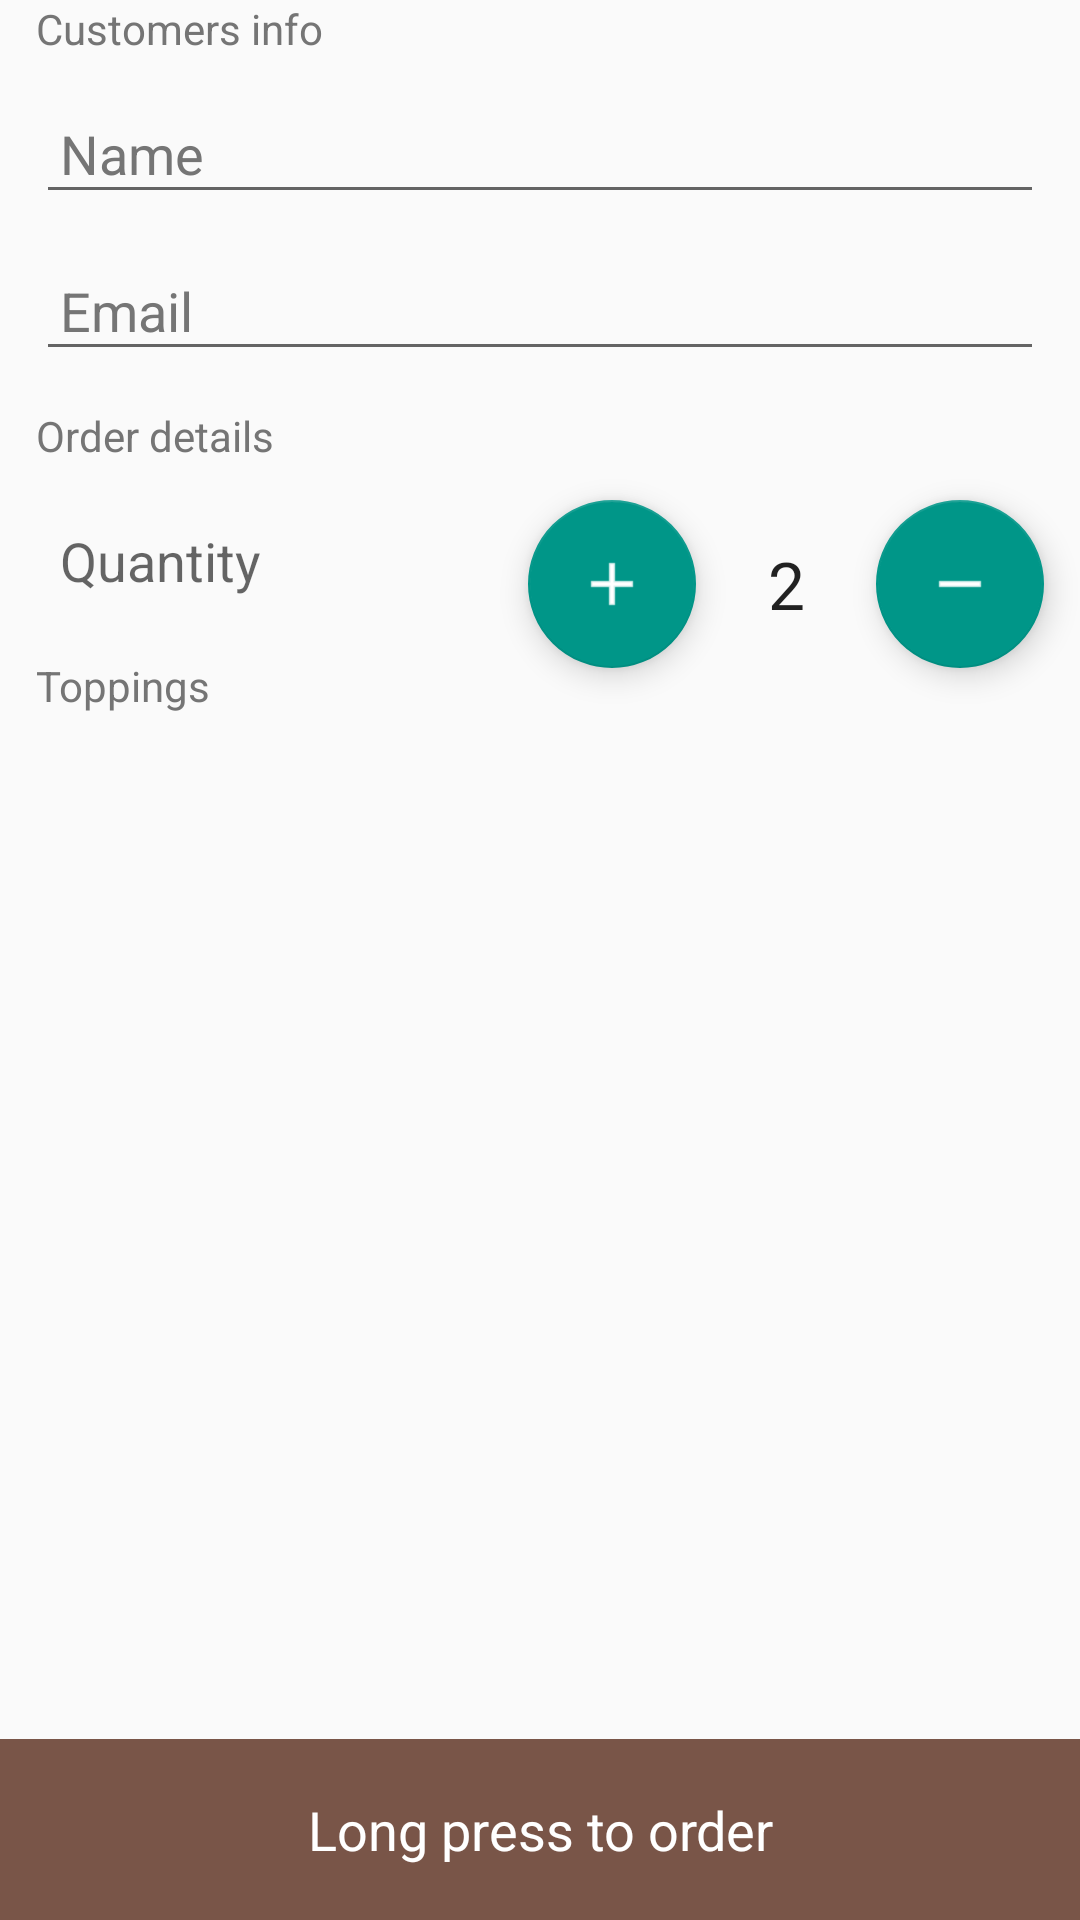

Point at icon controls on the screen. Image size 1080 × 1920, points as (x=x, y=y).
add: (x=612, y=584)
remove: (x=960, y=584)
